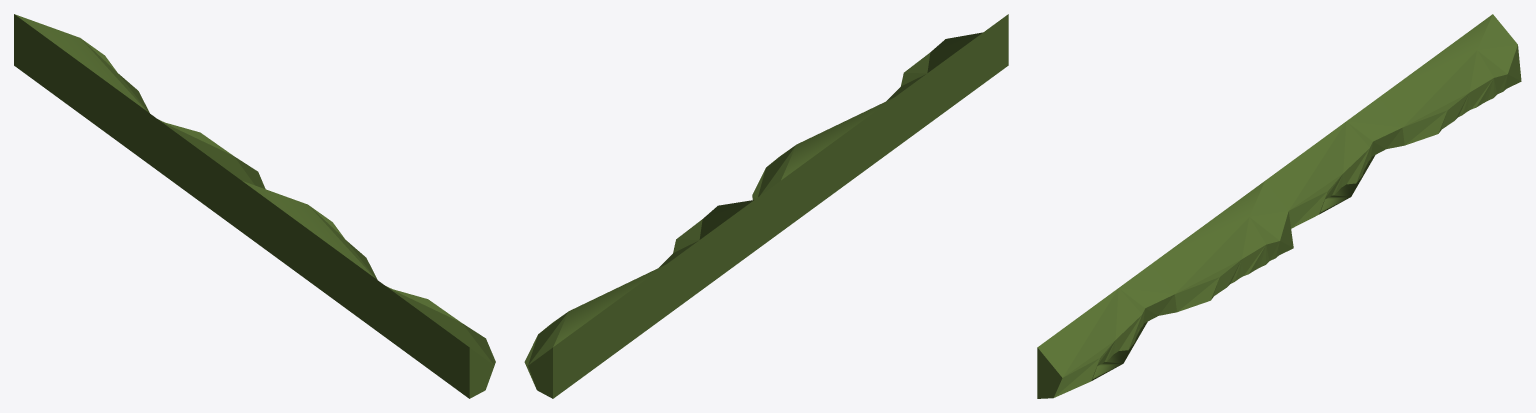
The model's file is LightVegetationEdgeLargeStraight2.fbx.
The picture shows the model from 3 angles, left to right: view 1: azimuth 30°, elevation 25°; view 2: azimuth 150°, elevation 25°; view 3: azimuth 330°, elevation 25°; orthographic projection.
Parts seen in each view (by area): view 1: LightVegetationEdgeLargeStraight2; view 2: LightVegetationEdgeLargeStraight2; view 3: LightVegetationEdgeLargeStraight2.
Part boxes in pixels (x1,y1,x2,y2): LightVegetationEdgeLargeStraight2: (14,14,495,398); LightVegetationEdgeLargeStraight2: (524,14,1008,398); LightVegetationEdgeLargeStraight2: (1037,14,1521,398).
Size of the model in its own units: 198 by 201 by 3200.
